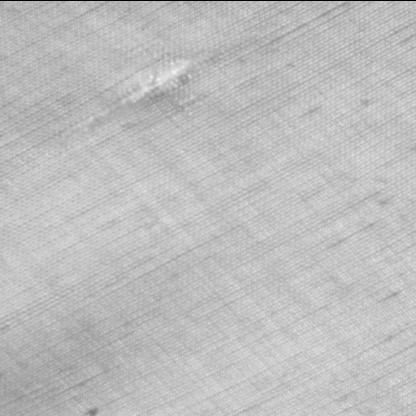thread error: (70, 48, 218, 134)
